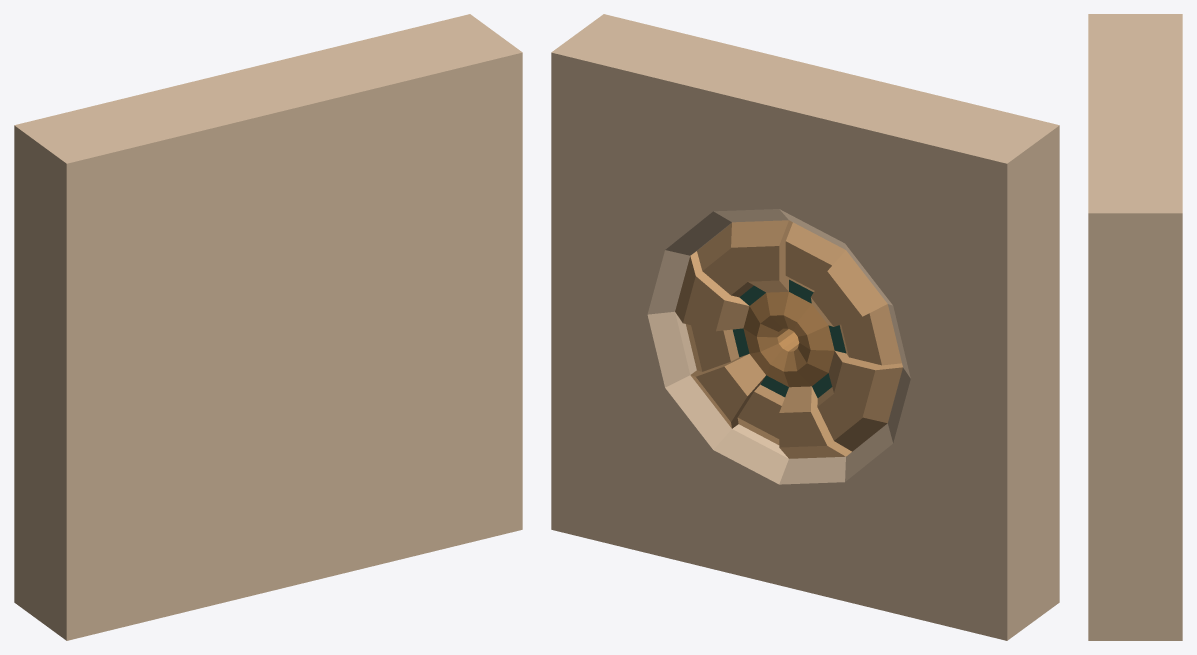
Rendered from Puzzle_Wall_Conduit_Emitter_Unconnected.obj.
The picture shows the model from 3 angles, left to right: view 1: azimuth 30°, elevation 25°; view 2: azimuth 150°, elevation 25°; view 3: azimuth 270°, elevation 25°; orthographic projection. The views are drawn at different scales.
Parts seen in each view (by area): view 1: object1; view 2: object1, object3, object2; view 3: object1.
Part boxes in pixels (x1,y1,x2,y2): object1: (14,14,522,640); object1: (551,14,1059,640); object3: (675,220,902,458); object2: (733,279,846,397); object1: (1088,14,1182,640).
Size of the model in its own units: 1 by 1 by 0.2.
